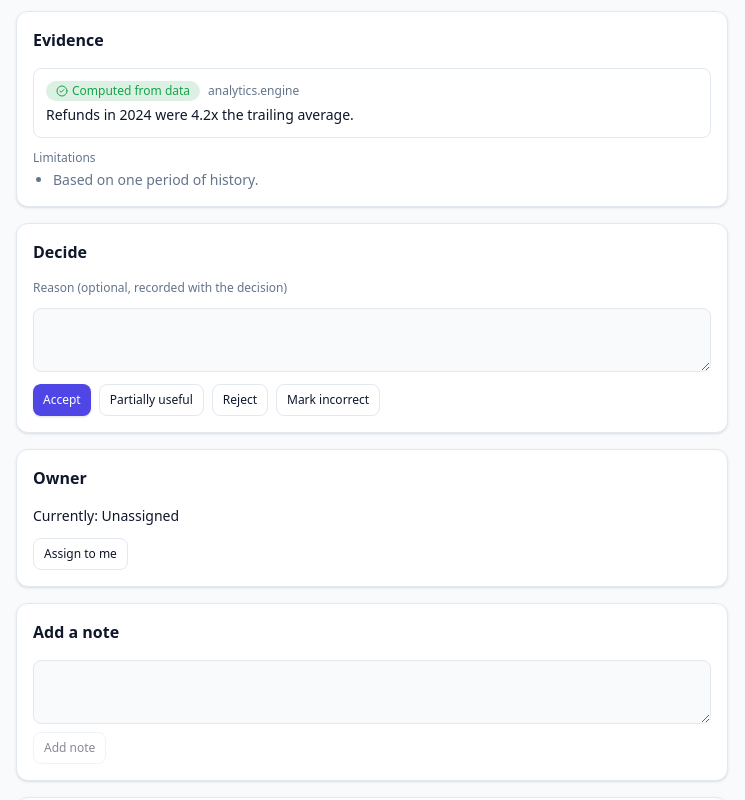
Recommendations page -- lifecycle actions › shows the server refusal message when a transition is no longer valid
The width and height of the screenshot is (745, 800).
(page scrolled)
What coordinates should you click on to do the following:
click the button "Accept"
I would click on:
 (62, 400)
Its box is [33,384,91,416].
(page scrolled)
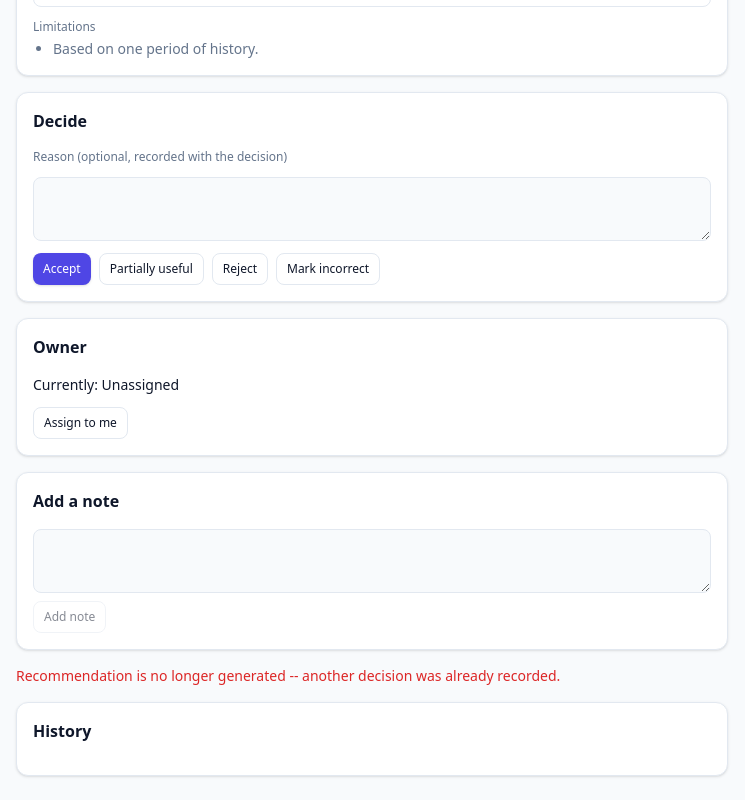
Expected: the message shows "another decision was already recorded", [16,666,560,685]
